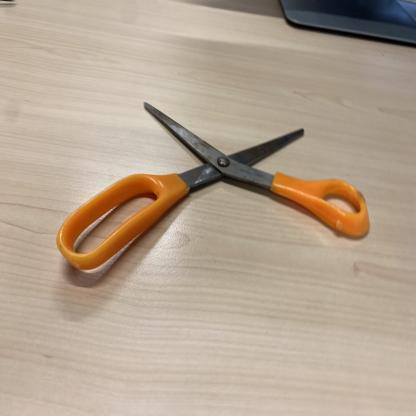scissors: (58, 96, 372, 284)
